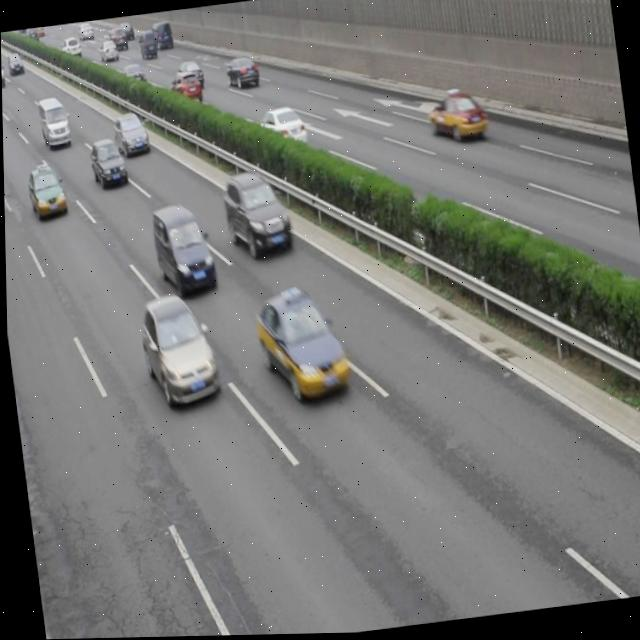car: (253, 287, 350, 409), (135, 291, 219, 409), (220, 169, 293, 259), (148, 200, 216, 296), (423, 89, 486, 149), (255, 105, 306, 152), (26, 162, 67, 220), (87, 137, 126, 190), (111, 112, 150, 157), (224, 58, 259, 92), (168, 72, 201, 107), (176, 59, 204, 90), (119, 61, 146, 90), (136, 30, 158, 60), (106, 27, 127, 52), (98, 41, 119, 64)
truck: (35, 95, 72, 150), (151, 22, 173, 53)
